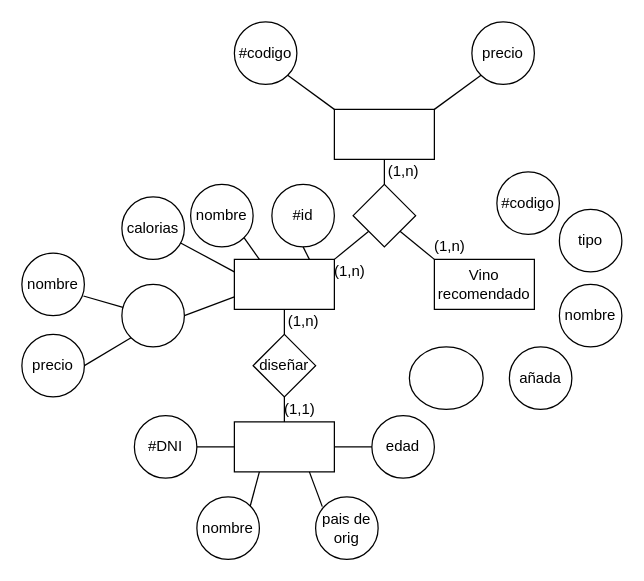
Some shapes in this 644 by 581 pixel diagram are drawn without their labels. The centre of each missing label's shape, as x and y in pixels:
Cocinero: (283,446)
disponible: (445,377)
ingred: (152,315)
Menu: (383,133)
Plato: (283,283)
Tener: (384,215)
